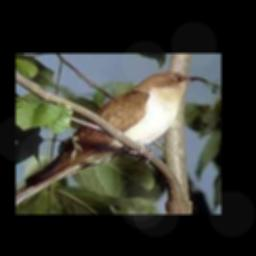Cuckoo: (15, 71, 208, 203)
